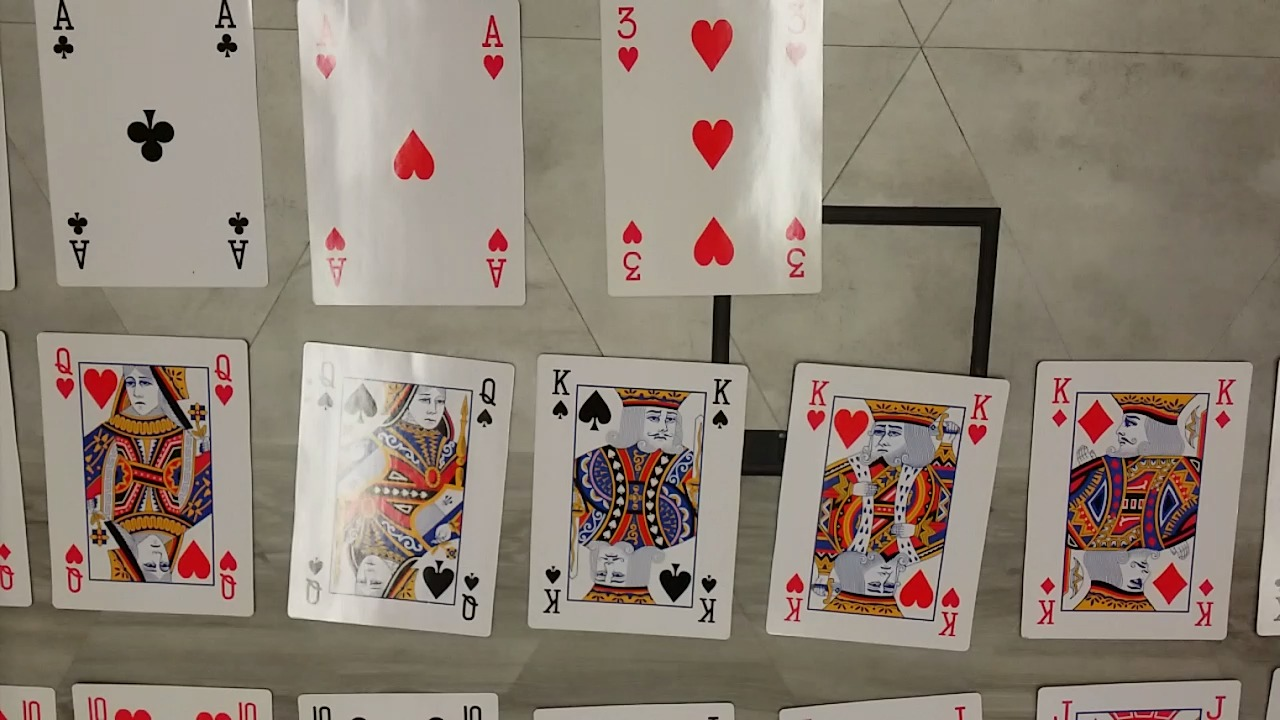1_club: (34, 0, 276, 290)
1_heart: (292, 0, 528, 304)
3_heart: (600, 0, 827, 297)
king_diamond: (1019, 358, 1249, 641)
king_heart: (763, 361, 1013, 652)
king_spade: (523, 350, 749, 639)
queen_heart: (32, 328, 254, 619)
queen_spade: (283, 338, 516, 639)
